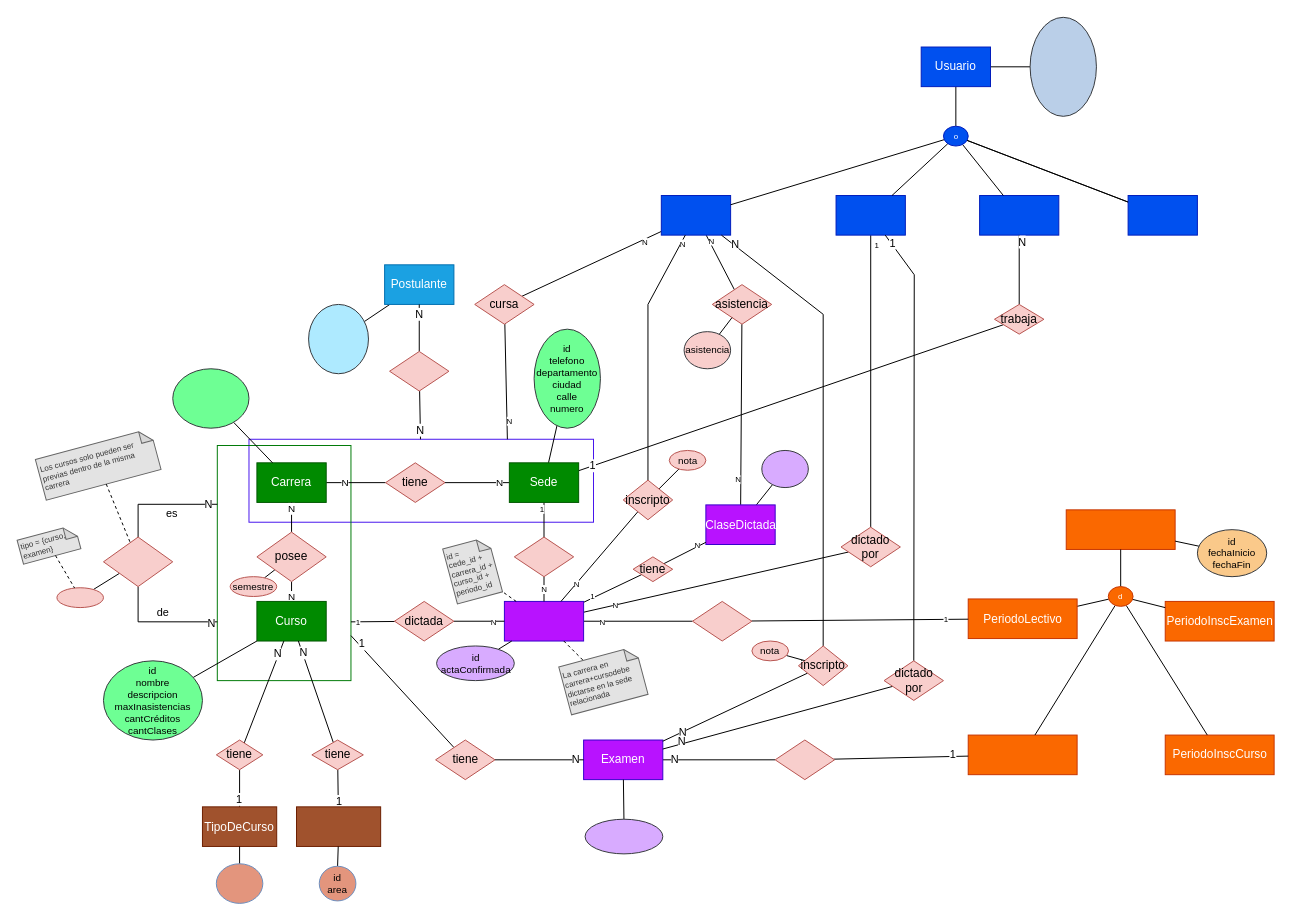
Some shapes in this 1292 by 921 pixel diagram are drawn without their labels. The centre of each missing label's shape, as x and y in pixels:
"Admin" goes at (x=1162, y=215).
"Administrativo" goes at (x=1019, y=215).
"AreaDeEstudio" goes at (x=338, y=826).
"ci nombre apellido correo fechaNac contrasenia token sexo" goes at (x=1062, y=66).
"ci nombre apellido correo fechaNac sexo" goes at (x=338, y=338).
"dictadaEn" goes at (x=722, y=620).
"Docente" goes at (x=870, y=215).
"EdicionCurso" goes at (x=543, y=620).
"Estudiante" goes at (x=695, y=215).
"id actaConfirmada fecha" goes at (x=623, y=836).
"id fecha" goes at (x=784, y=468).
"id nombre descripcion cantSemestres" goes at (x=210, y=398).
"id tipo" goes at (x=239, y=883).
"Periodo" goes at (x=1120, y=529).
"PeriodoExamen" goes at (x=1022, y=754).
"pertenece" goes at (x=543, y=556).
"postula" goes at (x=419, y=370).
"previa" goes at (x=137, y=561).
"tipo" goes at (x=79, y=597).
"tomado en" goes at (x=804, y=759).
